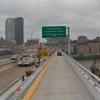Bridge: (36, 45, 91, 98)
